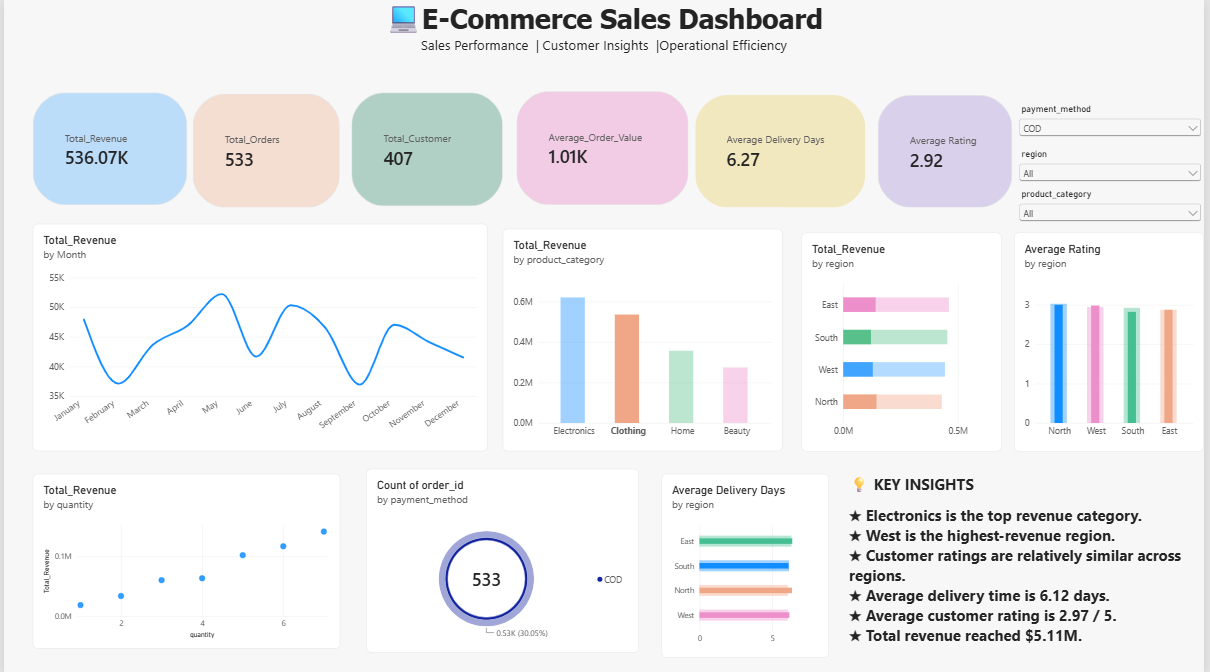

This screenshot's page, from the dashboard's own definition file:
{"tool":"powerbi","page":{"name":"Page 1","canvas":[1920,1080],"ordinal":0},"visuals":[{"type":"cardVisual","fields":{"Data":["ecommerce_sales_cleaned.Total_Revenue"]},"box":[45,147.5,247.5,180],"z":0},{"type":"cardVisual","fields":{"Data":["ecommerce_sales_cleaned.Total_Orders"]},"box":[302.5,150,235,182.5],"z":1000},{"type":"cardVisual","fields":{"Data":["ecommerce_sales_cleaned.Total_Customer"]},"box":[555,147.5,242.5,182.5],"z":2000},{"type":"cardVisual","fields":{"Data":["ecommerce_sales_cleaned.Average_Order_Value"]},"box":[820,145,275,182.5],"z":3000},{"type":"cardVisual","fields":{"Data":["ecommerce_sales_cleaned.Average Rating"]},"box":[1397.5,152.5,215,180],"z":4000},{"type":"lineChart","title":"Monthly Revenue Trend","fields":{"Category":["ecommerce_sales_cleaned.month.Variation.Date Hierarchy.Month","ecommerce_sales_cleaned.month.Variation.Date Hierarchy.Day"],"Y":["ecommerce_sales_cleaned.Total_Revenue"]},"box":[46,358,728,364],"z":5000},{"type":"clusteredColumnChart","title":"Revenue by Product Category","fields":{"Category":["ecommerce_sales_cleaned.product_category"],"Y":["ecommerce_sales_cleaned.Total_Revenue"]},"box":[798,366,448,356],"z":6000},{"type":"clusteredBarChart","title":"Revenue by Region","fields":{"Category":["ecommerce_sales_cleaned.region"],"Y":["ecommerce_sales_cleaned.Total_Revenue"]},"box":[1276,372,320,350],"z":7000},{"type":"scatterChart","title":"Quantity vs Revenue","fields":{"X":["ecommerce_sales_cleaned.quantity"],"Y":["ecommerce_sales_cleaned.Total_Revenue"]},"box":[46,758,491.7,280],"z":8000},{"type":"donutChart","title":"Orders by Payment Method","fields":{"Category":["ecommerce_sales_cleaned.payment_method"],"Y":["CountNonNull(ecommerce_sales_cleaned.order_id)"]},"box":[580,750,436,294],"z":9000},{"type":"clusteredColumnChart","title":"Average Customer Rating by Region","fields":{"Category":["ecommerce_sales_cleaned.region"],"Y":["ecommerce_sales_cleaned.Average Rating"]},"box":[1616,372,304,350],"z":10000},{"type":"clusteredBarChart","title":"Average Delivery Time by Region","fields":{"Category":["ecommerce_sales_cleaned.region"],"Y":["ecommerce_sales_cleaned.Average Delivery Days"]},"box":[1052,758,268,294],"z":11000},{"type":"textbox","box":[0,0,1920,110],"z":12000},{"type":"textbox","box":[1280,1052,280,28],"z":13000},{"type":"textbox","box":[1352,758,568,294],"z":14000},{"type":"cardVisual","fields":{"Data":["ecommerce_sales_cleaned.Average Delivery Days"]},"box":[1105,152.5,272.5,180],"z":15000},{"type":"slicer","fields":{"Values":["ecommerce_sales_cleaned.product_category"]},"box":[1620,302.5,300,70],"z":15001},{"type":"slicer","fields":{"Values":["ecommerce_sales_cleaned.region"]},"box":[1620,237.5,300,60],"z":15002},{"type":"slicer","fields":{"Values":["ecommerce_sales_cleaned.payment_method"]},"box":[1620,165,300,75],"z":15003}]}

Visuals, with their boxes in screenshot pixels (x1, y1, x2, y2), scaled from the page's 1920x1080 canvas onto the 1210x672 screenshot:
cardVisual - ecommerce_sales_cleaned.Total_Revenue: (28, 92, 184, 204)
cardVisual - ecommerce_sales_cleaned.Total_Orders: (191, 93, 339, 207)
cardVisual - ecommerce_sales_cleaned.Total_Customer: (350, 92, 503, 205)
cardVisual - ecommerce_sales_cleaned.Average_Order_Value: (517, 90, 690, 204)
cardVisual - ecommerce_sales_cleaned.Average Rating: (881, 95, 1016, 207)
"Monthly Revenue Trend" lineChart: (29, 223, 488, 449)
"Revenue by Product Category" clusteredColumnChart: (503, 228, 785, 449)
"Revenue by Region" clusteredBarChart: (804, 231, 1006, 449)
"Quantity vs Revenue" scatterChart: (29, 472, 339, 646)
"Orders by Payment Method" donutChart: (366, 467, 640, 650)
"Average Customer Rating by Region" clusteredColumnChart: (1018, 231, 1209, 449)
"Average Delivery Time by Region" clusteredBarChart: (663, 472, 832, 655)
textbox: (0, 0, 1209, 68)
textbox: (807, 655, 983, 671)
textbox: (852, 472, 1209, 655)
cardVisual - ecommerce_sales_cleaned.Average Delivery Days: (696, 95, 868, 207)
slicer - ecommerce_sales_cleaned.product_category: (1021, 188, 1209, 232)
slicer - ecommerce_sales_cleaned.region: (1021, 148, 1209, 185)
slicer - ecommerce_sales_cleaned.payment_method: (1021, 103, 1209, 149)
